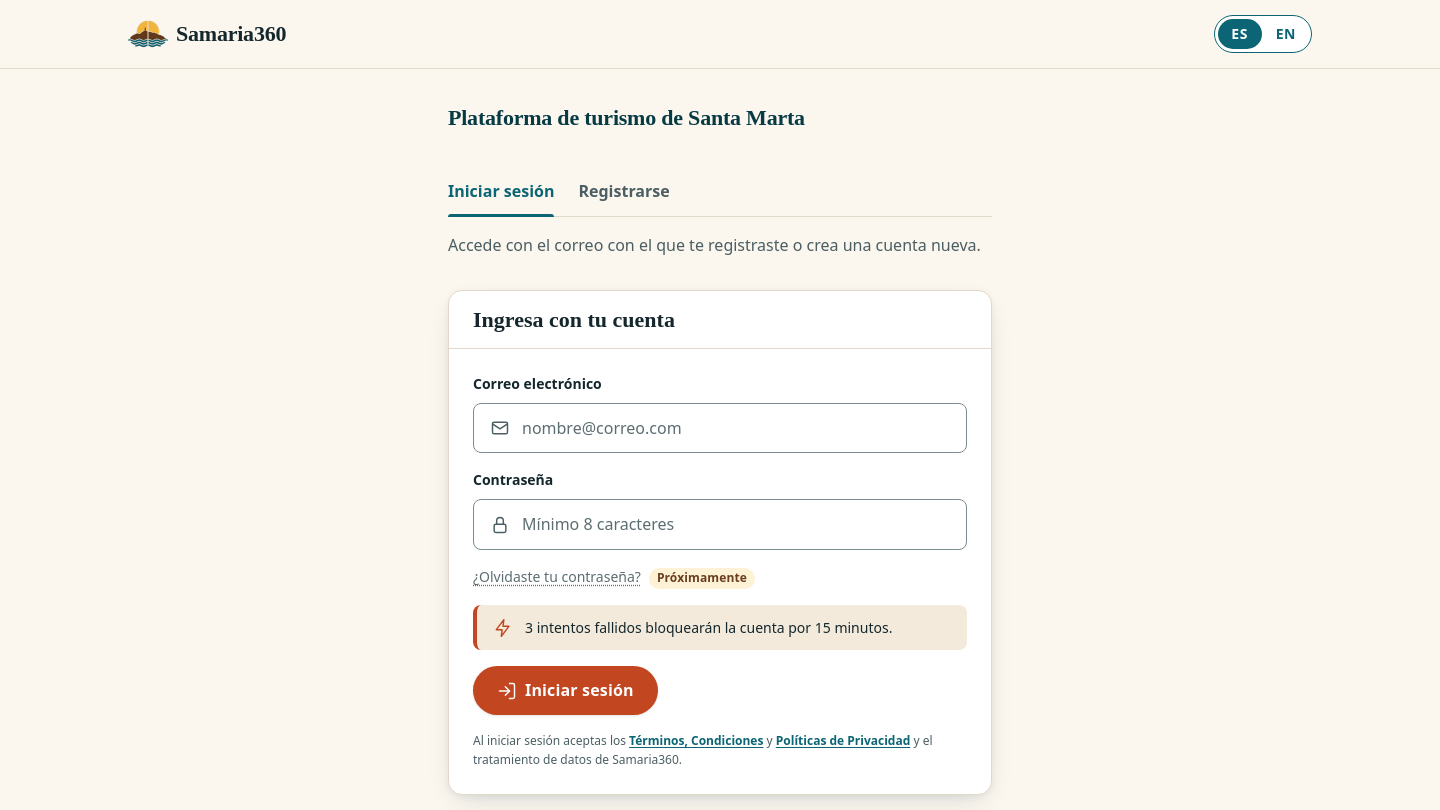
Test: Pantallas de acceso (WF-01 a WF-03) › el pie reducido tiene los derechos, Términos y Privacidad con destino y Ayuda pendiente, sin las columnas
What coordinates should you click on to do the following:
click the button with aria-label "Inglés"
I would click on:
 (1286, 34)
Its box is [1264,19,1308,49].
(page scrolled)
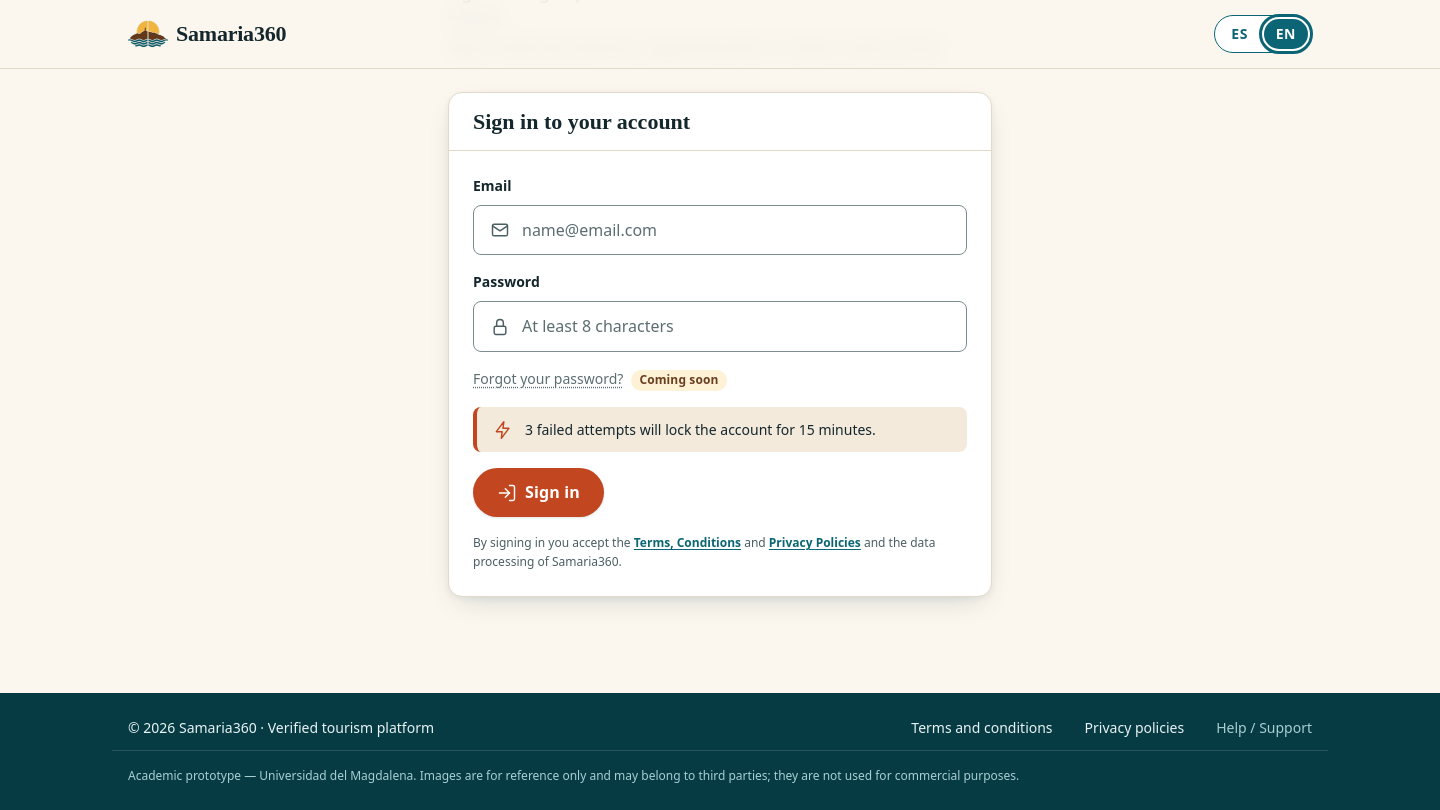
Expected: the text "© 2026 Samaria360 · Verified tourism platform" is shown, [128,717,434,738]
Expected: the text "Help / Support" is shown, [1216,718,1312,737]
